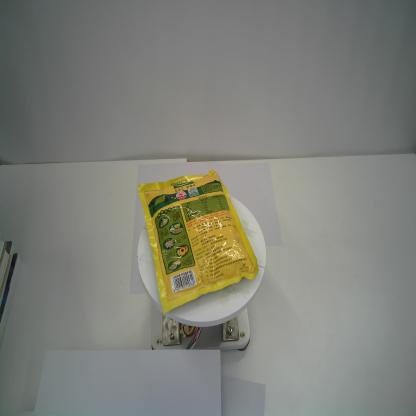Seasoner: (136, 168, 260, 315)
